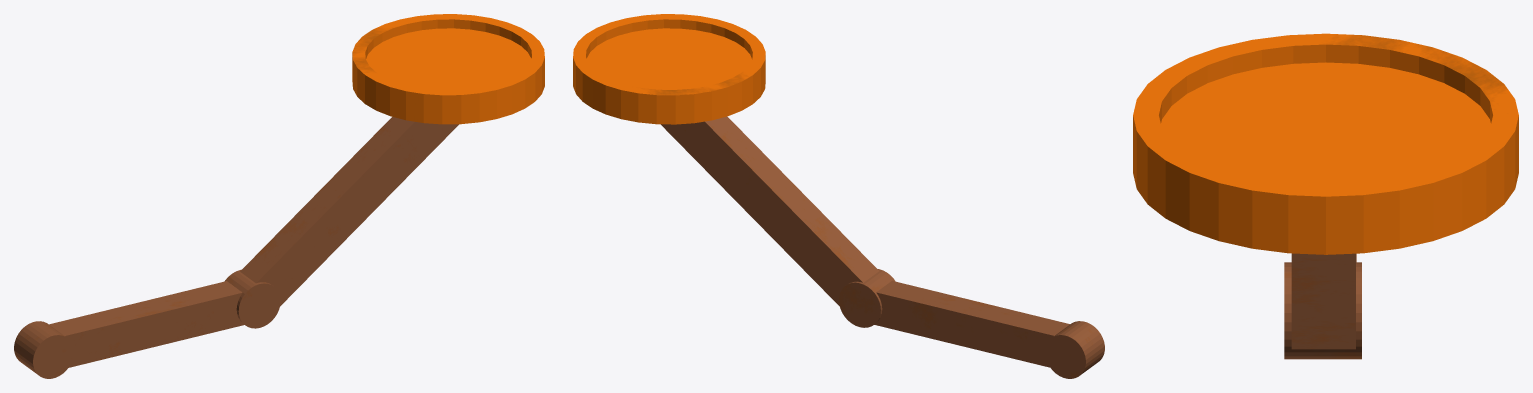
File: Final_Keys for typewriter on plaatform.glb
3 views of the same model, side by side, from view 1: azimuth 30°, elevation 25°; view 2: azimuth 150°, elevation 25°; view 3: azimuth 270°, elevation 25° (orthographic). The views are drawn at different scales.
Parts seen in each view (by area): view 1: Circle, Circle.001, Cylinder; view 2: Circle, Circle.001, Cylinder; view 3: Circle.001, Circle.
Part boxes in pixels (left/top/right/bottom): Circle: left=49, top=117, right=458, bottom=367; Circle.001: left=352, top=14, right=544, bottom=124; Cylinder: left=14, top=321, right=73, bottom=378; Circle: left=661, top=116, right=1069, bottom=367; Circle.001: left=573, top=14, right=765, bottom=124; Cylinder: left=1045, top=321, right=1104, bottom=378; Circle.001: left=1133, top=33, right=1518, bottom=254; Circle: left=1284, top=253, right=1361, bottom=359.
Bounding box in the file's own units: 9 × 3.68 × 2.96.
3 materials, 3 textured.
